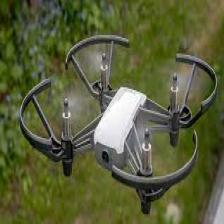drone: (19, 32, 217, 212)
